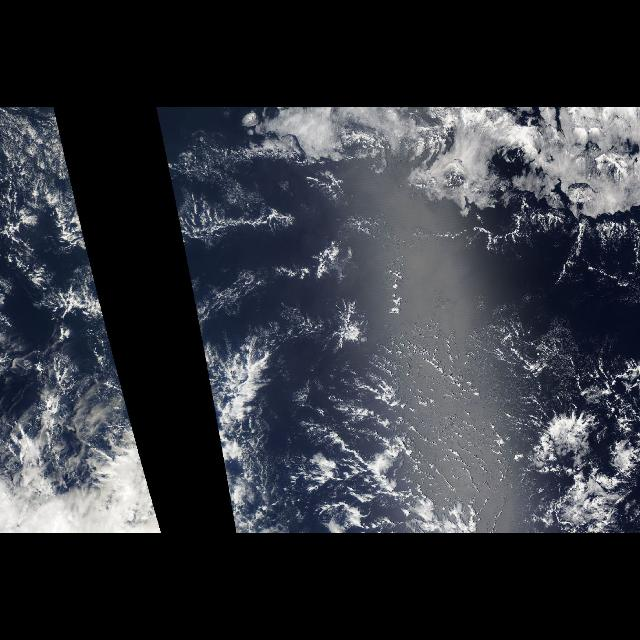Sugar: (383, 327, 543, 529), (1, 113, 72, 220)
